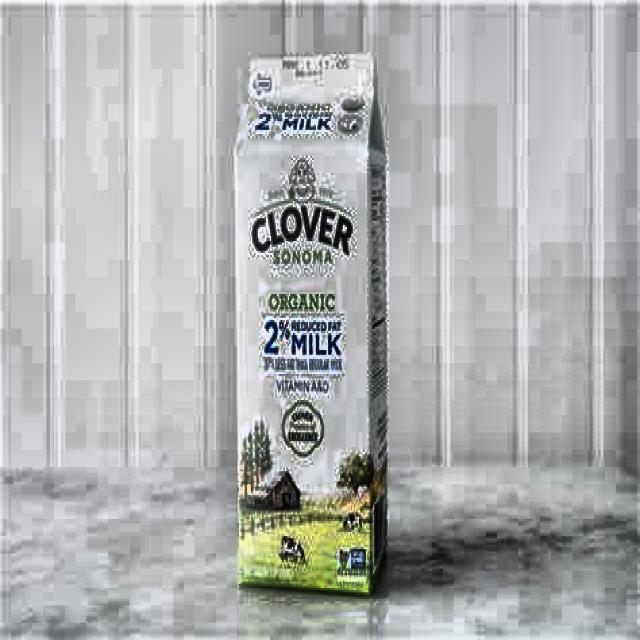cardboard: (232, 50, 389, 594)
